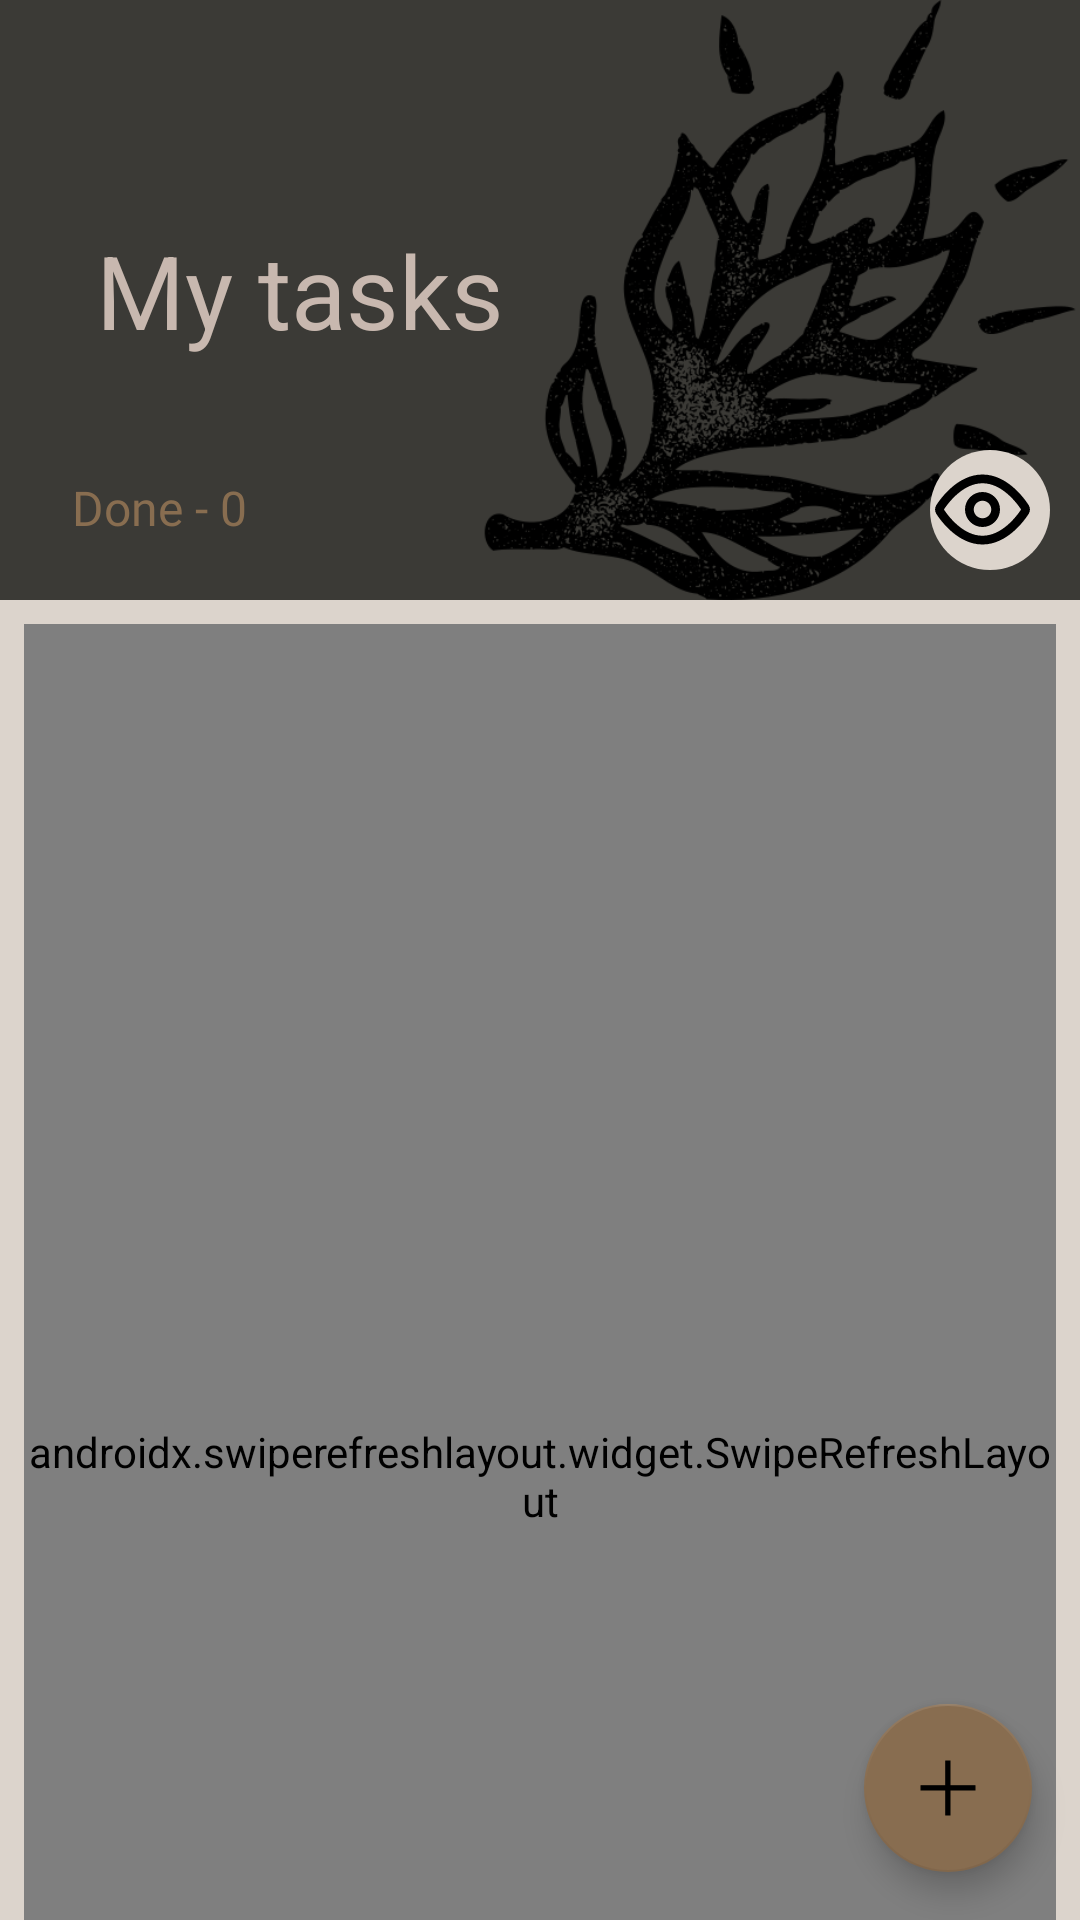

Locate icon controls on the screen. Image size 1080*1920, boxes as (x1, y1, x2, y2).
visible: (930, 450, 1050, 570)
